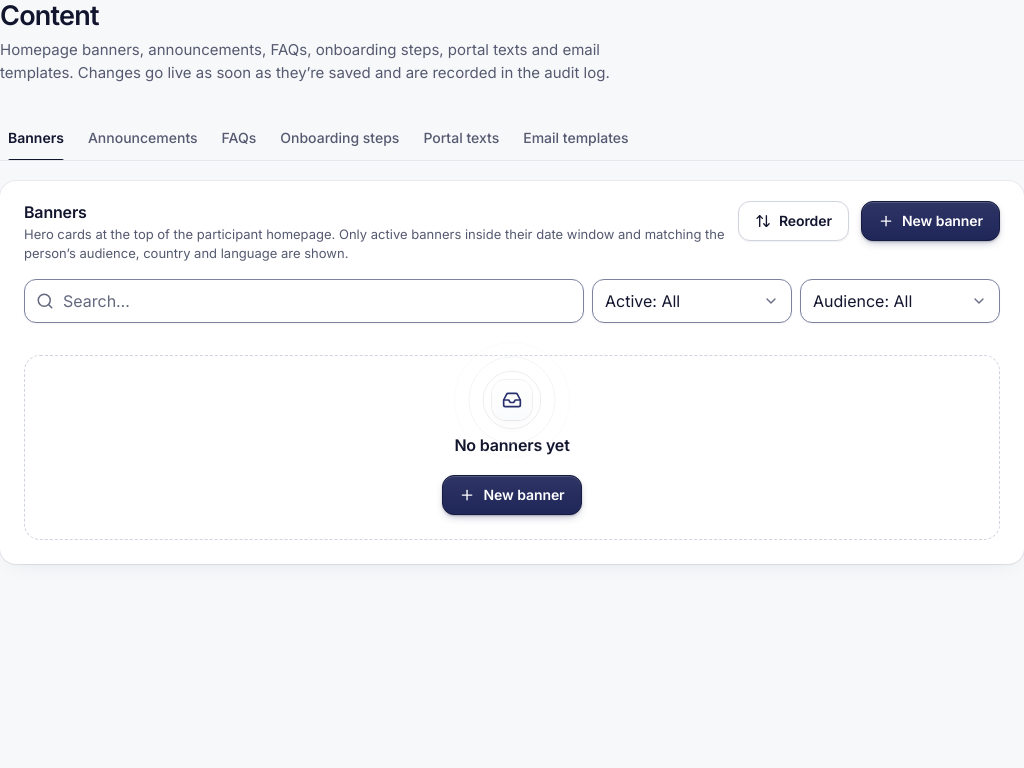
it: Content — banners › maps PascalCase server field errors onto the form
This screenshot has width=1024, height=768.
Click the 1st button "New banner" at [930, 221], box x1=861 y1=201 x2=1000 y2=241
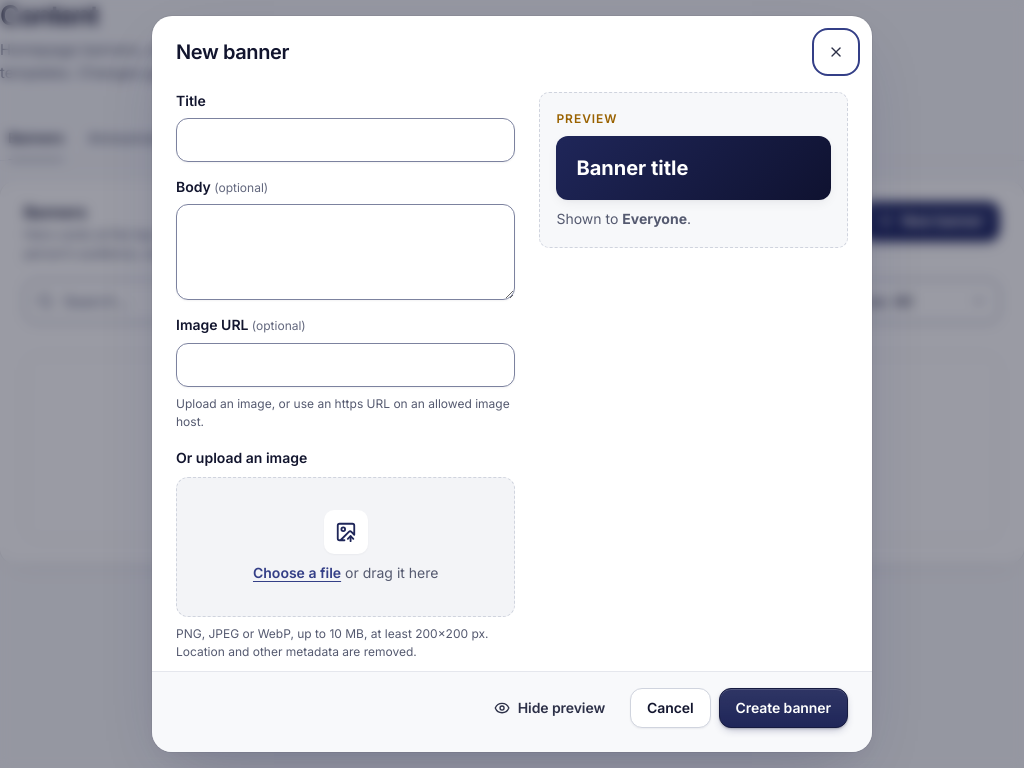
Type "Hi" into the field labelled "Title" at [346, 140], box x1=176 y1=118 x2=515 y2=162
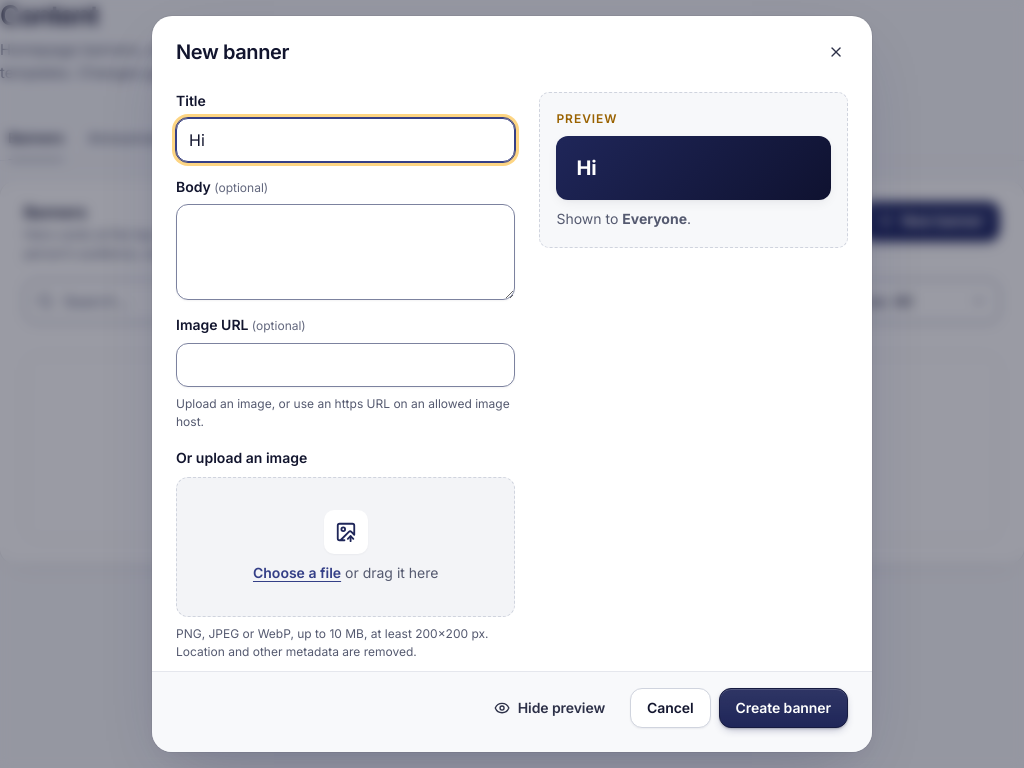
Click the button "Create banner" at [783, 708], box x1=719 y1=688 x2=848 y2=728
(page scrolled)
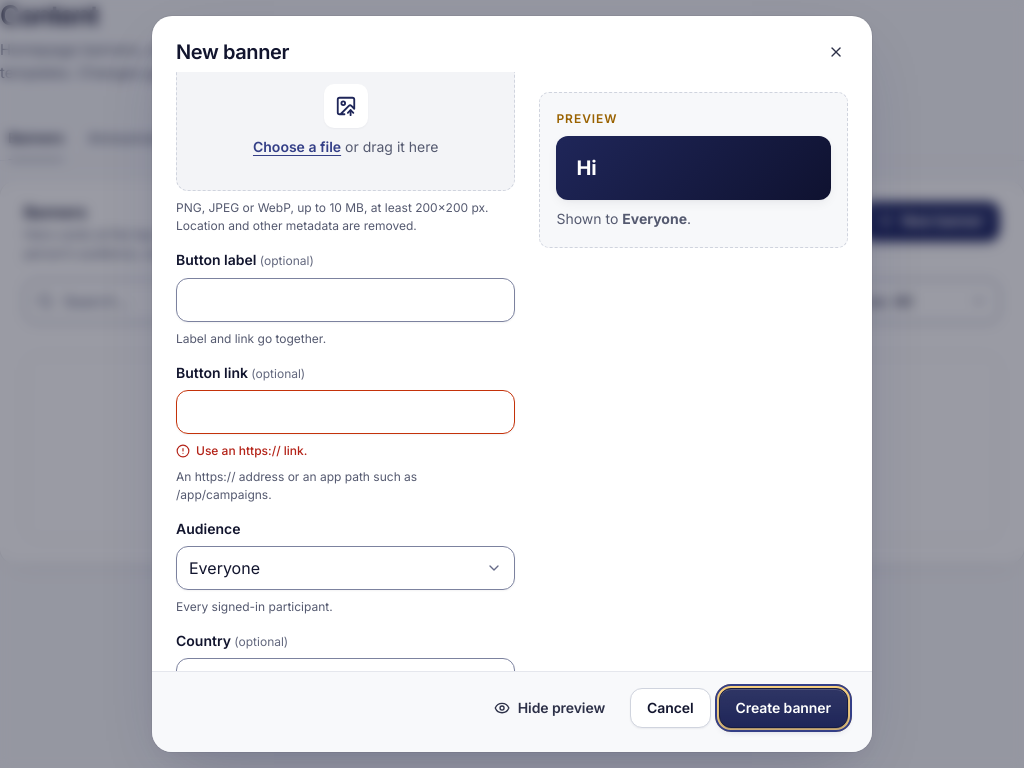
Result: the text "Use an https:// link." is shown at x1=196 y1=442 x2=307 y2=460
